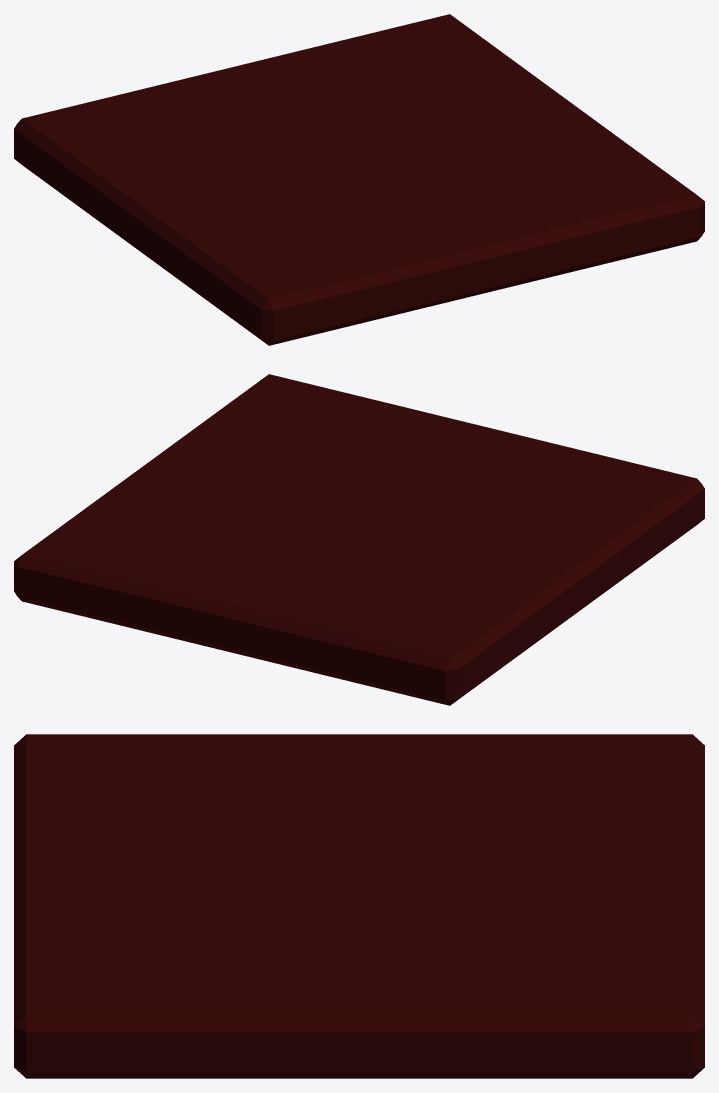
The model's file is slab01.fbx.
3 views of the same model, one above another, from view 1: azimuth 30°, elevation 25°; view 2: azimuth 150°, elevation 25°; view 3: azimuth 270°, elevation 25° (orthographic). The views are drawn at different scales.
Parts seen in each view (by area): view 1: slab01; view 2: slab01; view 3: slab01.
Boxes of the visible parts, left/top/right/bottom form: slab01: left=14, top=14, right=704, bottom=345; slab01: left=14, top=374, right=704, bottom=705; slab01: left=14, top=734, right=704, bottom=1078.
Size of the model in its own units: 20 by 2 by 20.
